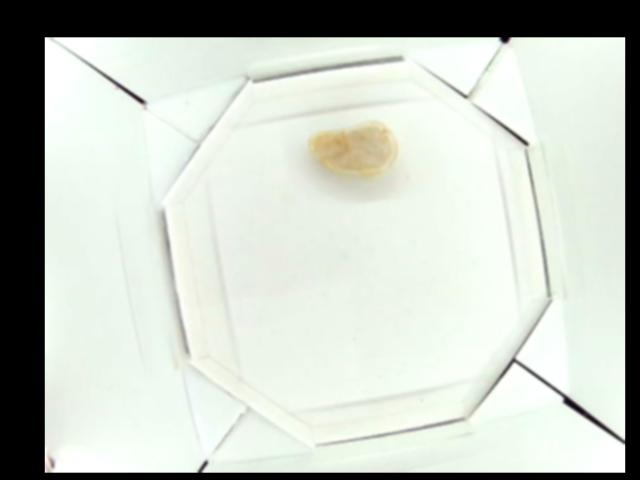Pebble: (305, 115, 395, 179)
